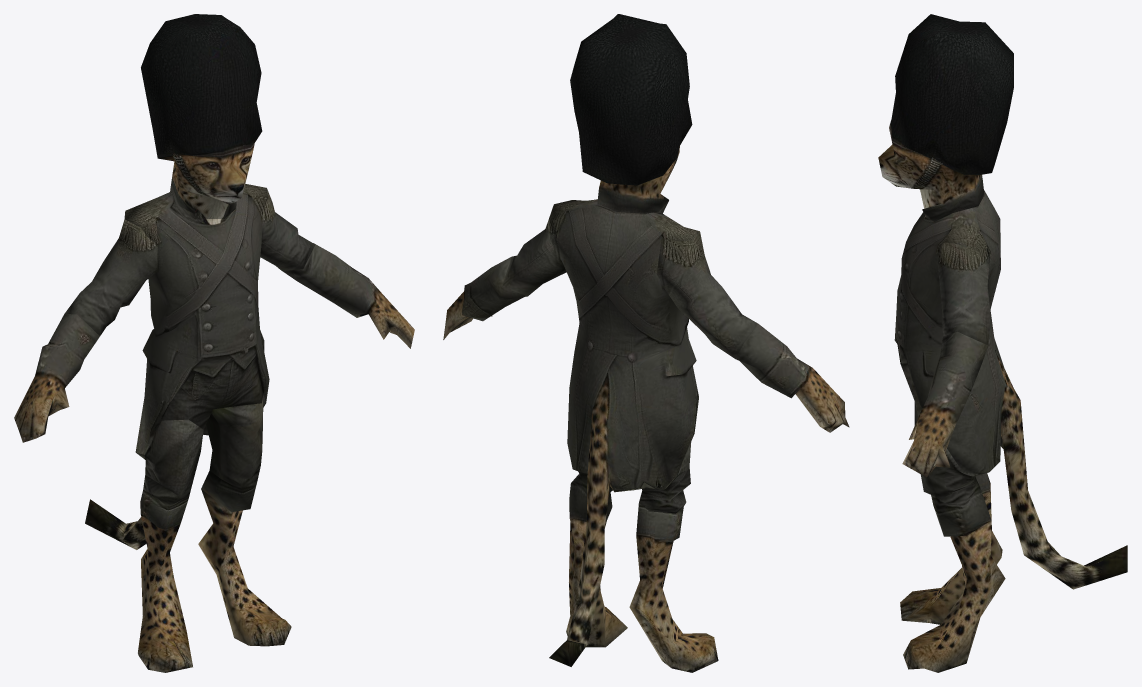
Rendered from infantry_mix_gibs.glb.
3 views of the same model, side by side, from view 1: azimuth 30°, elevation 25°; view 2: azimuth 150°, elevation 25°; view 3: azimuth 270°, elevation 25° (orthographic). The views are drawn at different scales.
Visible parts, largest first — view 1: Body.001, Hat.001, Leg.R.001, Leg.L.001, Upleg.L.001, Forarm.R.001, Arm.R.001, Forarm.L.001, Head.001, Upleg.R.001, Arm.L.001; view 2: Body.001, Hat.001, Leg.R.001, Arm.R.001, Forarm.R.001, Forarm.L.001, Arm.L.001, Leg.L.001, Head.001, Upleg.R.001, Upleg.L.001; view 3: Body.001, Hat.001, Leg.L.001, Forarm.L.001, Arm.L.001, Head.001, Upleg.L.001, Leg.R.001.
Boxes of the visible parts, x1,y1,x2,y2 form: Body.001: (85,184,269,549); Hat.001: (141,14,262,158); Leg.R.001: (138,490,192,672); Leg.L.001: (198,489,291,646); Upleg.L.001: (201,394,265,511); Forarm.R.001: (14,313,99,442); Arm.R.001: (65,219,157,335); Forarm.L.001: (280,243,414,348); Head.001: (158,143,254,218); Upleg.R.001: (136,419,203,507); Arm.L.001: (260,189,315,270); Body.001: (549,199,699,666); Hat.001: (570,14,692,184); Leg.R.001: (629,503,718,672); Arm.R.001: (656,231,757,358); Forarm.R.001: (735,324,849,432); Forarm.L.001: (443,257,527,339); Arm.L.001: (502,219,566,296); Leg.L.001: (566,518,627,647); Head.001: (597,146,679,213); Upleg.R.001: (639,442,691,513); Upleg.L.001: (569,471,612,521); Body.001: (894,190,1127,589); Hat.001: (889,14,1013,174); Leg.L.001: (903,520,1005,672); Forarm.L.001: (902,332,988,477); Arm.L.001: (938,242,990,345); Head.001: (878,141,990,221); Upleg.L.001: (914,402,991,536); Leg.R.001: (900,473,1002,624).
Bounding box in the file's own units: 0.6457 × 0.9788 × 0.3582.
Materials: 2 (1 with a texture image).
